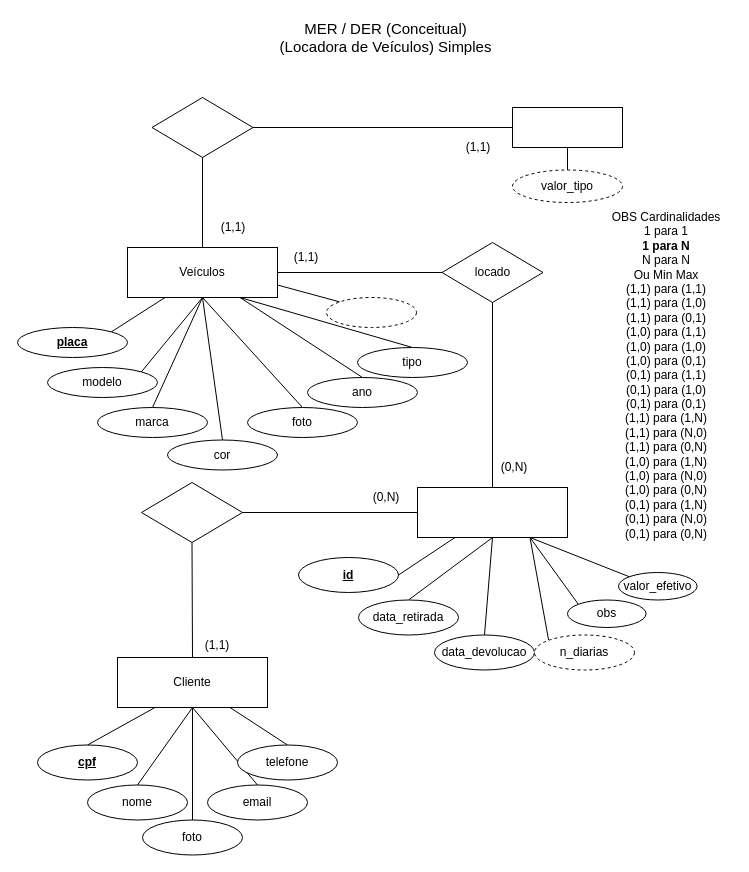
This 749x872 diagram has some shape labels left out. The shapes that lost their labels are listed below. From the top down, each one's centre as x and y in pixels, then its label:
point (202, 127): possui
point (567, 127): Valores
point (371, 312): status
point (191, 512): aluga
point (492, 512): Locações
